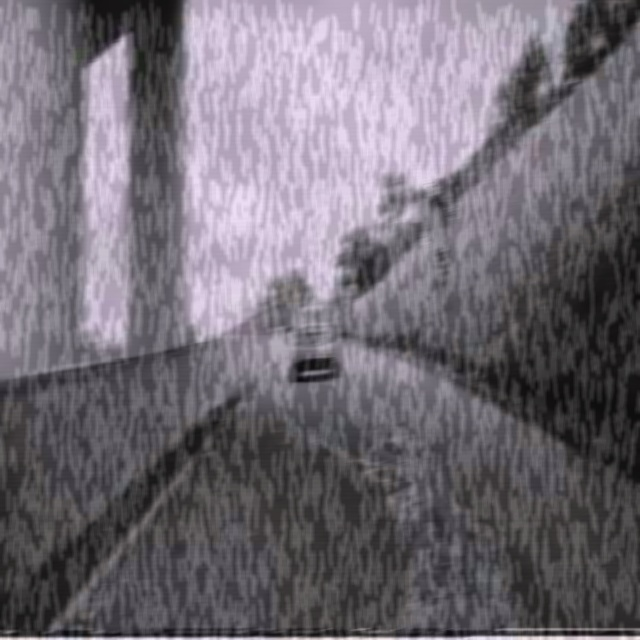curveLeft: (422, 176, 456, 247)
